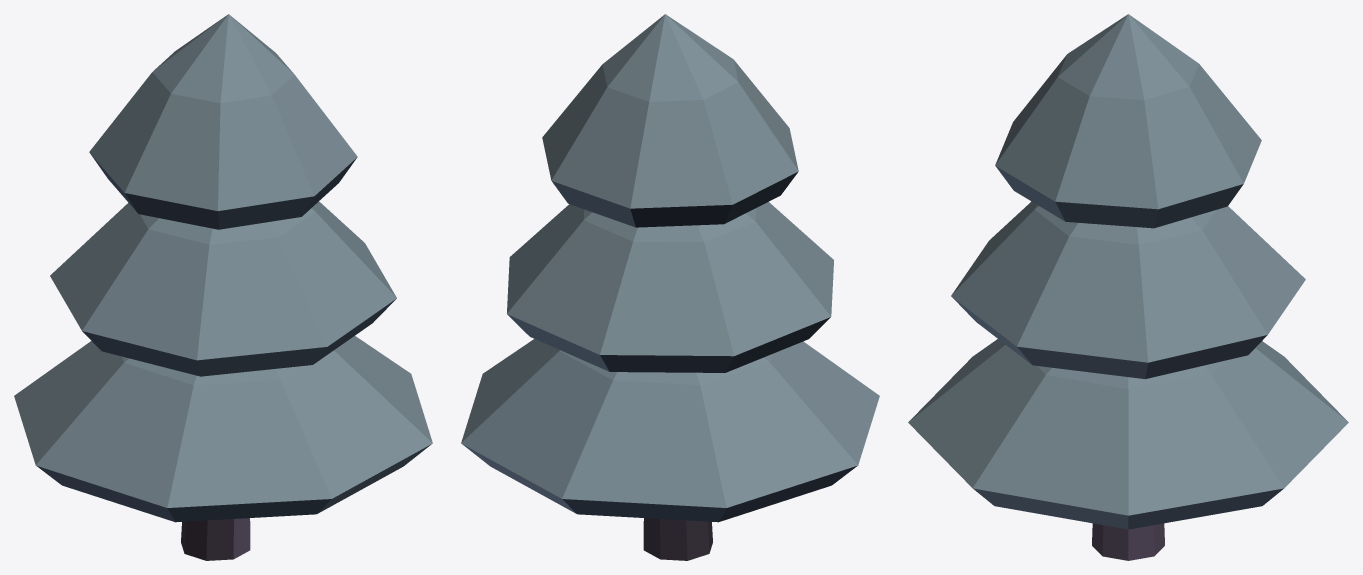
The model's file is TW_TREE_TIERED_WIDE_A_LOD0.glb.
3 views of the same model, side by side, from view 1: azimuth 30°, elevation 25°; view 2: azimuth 150°, elevation 25°; view 3: azimuth 270°, elevation 25° (orthographic).
Visible parts, largest first — view 1: TW_TREE_TIERED_WIDE_A_LOD0; view 2: TW_TREE_TIERED_WIDE_A_LOD0; view 3: TW_TREE_TIERED_WIDE_A_LOD0.
Part boxes in pixels (<box>): TW_TREE_TIERED_WIDE_A_LOD0: <box>14,14,432,560</box>; TW_TREE_TIERED_WIDE_A_LOD0: <box>461,14,879,560</box>; TW_TREE_TIERED_WIDE_A_LOD0: <box>908,14,1348,560</box>.
Bounding box in the file's own units: 2.6 × 3.5 × 2.6.
1 material, 1 textured.
